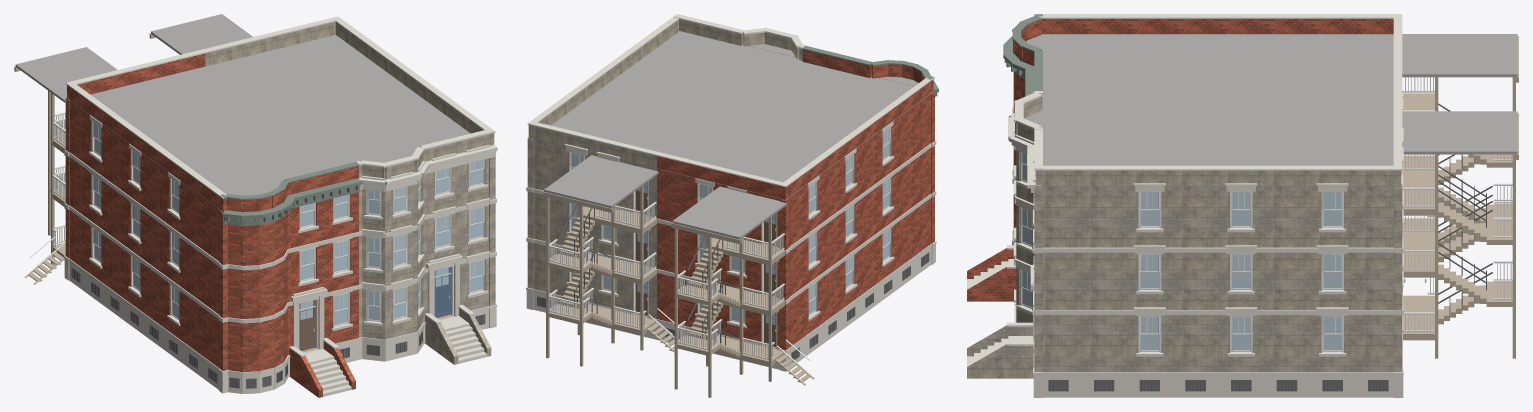
Rendered from building_assembled.glb.
The picture shows the model from 3 angles, left to right: view 1: azimuth 30°, elevation 25°; view 2: azimuth 150°, elevation 25°; view 3: azimuth 270°, elevation 25°; orthographic projection. The views are drawn at different scales.
Parts seen in each view (by area): view 1: building_brick, building_roof, building_lime, building_grey, building_glass, building_sash, building_metal, building_frame, building_wood, building_dark, building_trim, building_iron (+2 smaller); view 2: building_roof, building_brick, building_wood, building_grey, building_lime, building_trim, building_glass, building_frame, building_iron, building_door, building_sash, building_dark (+1 smaller); view 3: building_grey, building_roof, building_lime, building_wood, building_brick, building_glass, building_trim, building_sash, building_iron, building_dark, building_metal, building_frame.
Boxes of the visible parts, x1,y1,x2,y2 form: building_brick: (65,53,358,397); building_roof: (15,14,470,211); building_lime: (64,16,497,396); building_grey: (205,22,495,364); building_glass: (93,122,483,325); building_sash: (93,122,484,326); building_metal: (220,162,363,226); building_frame: (92,121,485,348); building_wood: (14,33,155,284); building_dark: (71,267,485,388); building_trim: (30,112,483,327); building_iron: (60,124,484,388); building_roof: (528,31,933,239); building_brick: (657,49,934,350); building_wood: (543,185,814,397); building_grey: (527,19,802,318); building_lime: (526,14,936,371); building_trim: (548,156,889,366); building_glass: (571,128,889,324); building_frame: (569,127,891,348); building_iron: (538,204,928,361); building_door: (635,182,776,347); building_sash: (570,128,890,324); building_dark: (537,252,929,363); building_grey: (967,97,1402,378); building_roof: (1024,33,1517,186); building_lime: (967,14,1403,397); building_wood: (1402,36,1518,358); building_brick: (967,19,1393,301); building_glass: (1022,153,1341,350); building_trim: (1022,77,1512,352); building_sash: (1021,152,1342,351); building_iron: (1012,103,1492,391); building_dark: (1012,244,1388,391); building_metal: (1003,14,1042,96); building_frame: (1020,120,1401,352).
Bounding box in the file's own units: 18 × 11.07 × 24.15.
18 materials, 3 textured.
